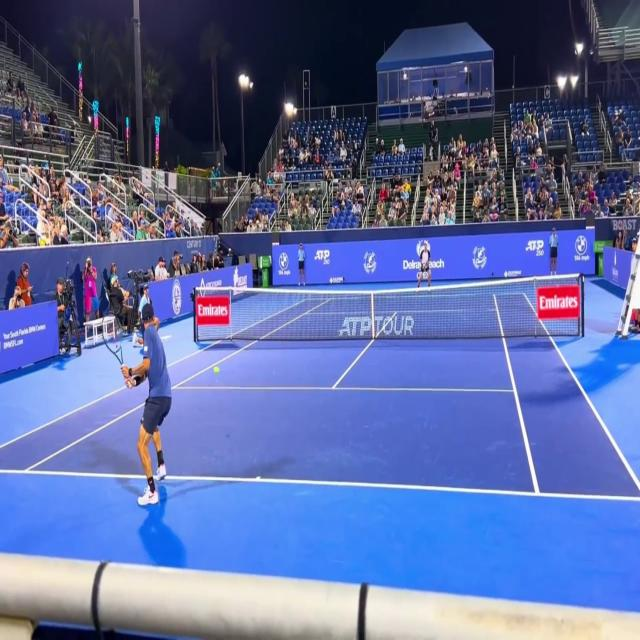tennisBall: (210, 360, 222, 380)
